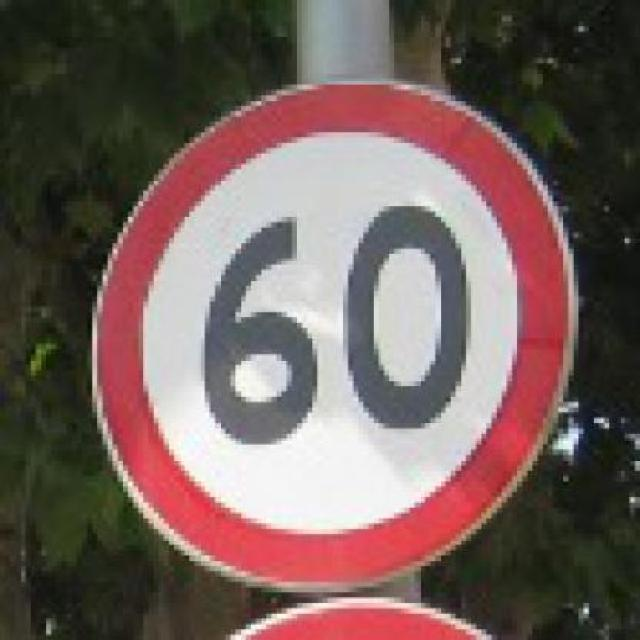Limite-60: (85, 72, 579, 599)
